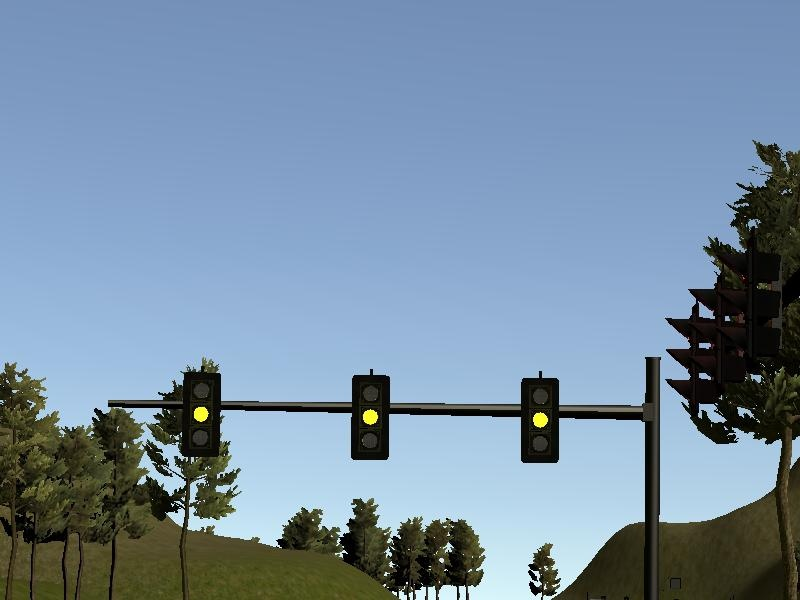YELLOW: (182, 372, 222, 458), (351, 373, 391, 459), (520, 376, 560, 462)
